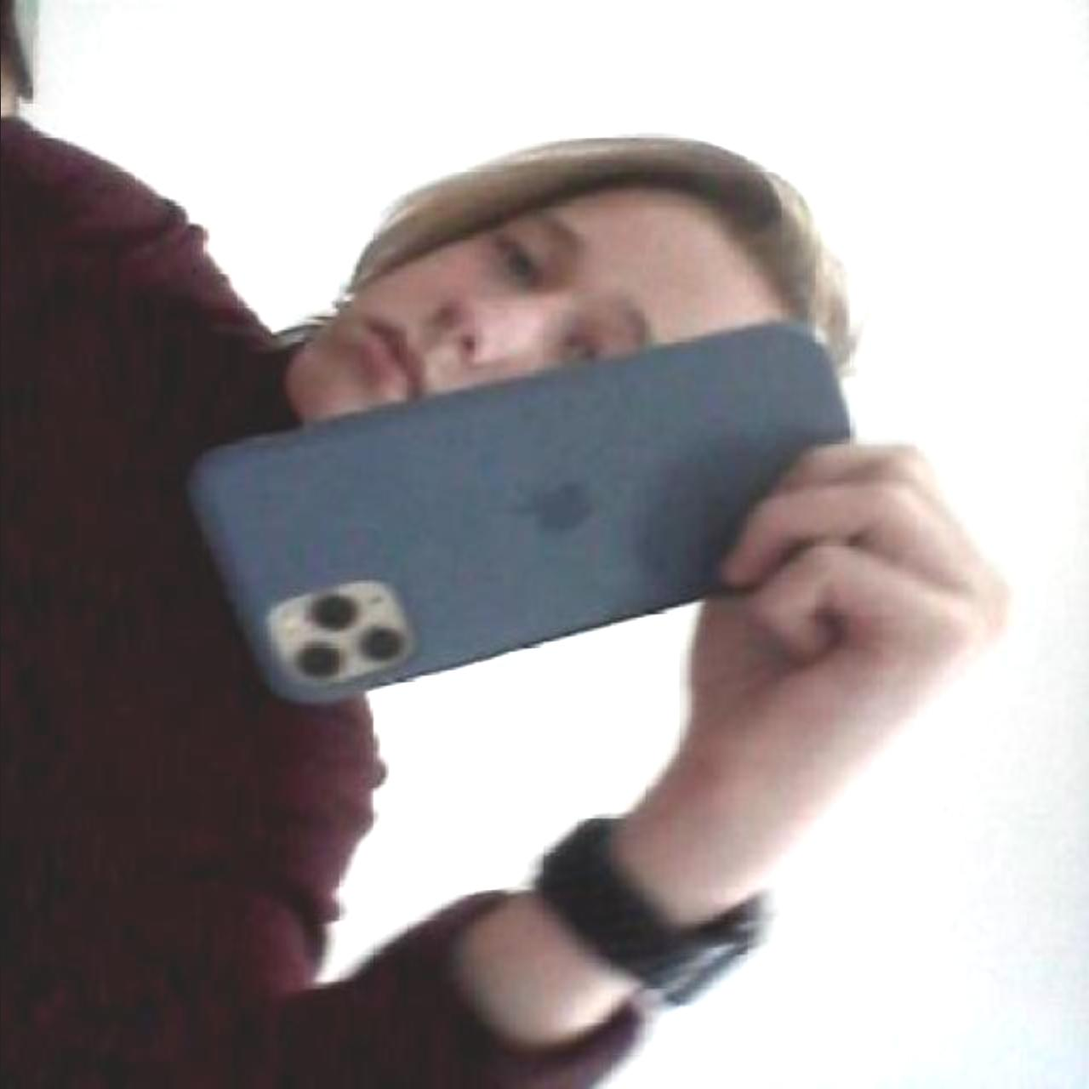phone: (201, 315, 859, 725)
